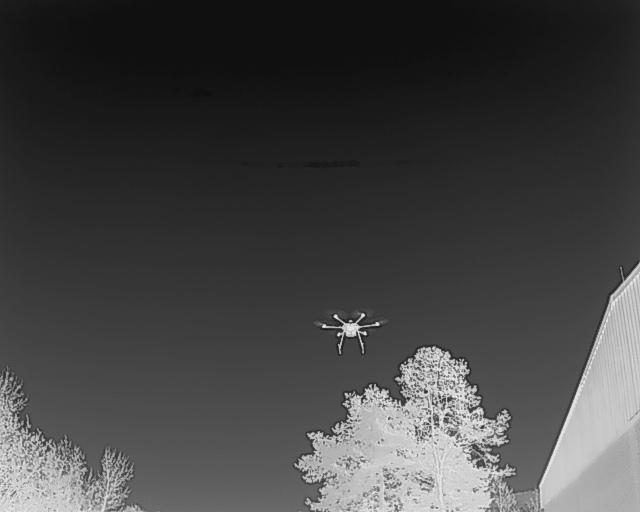drone: (313, 299, 391, 357)
